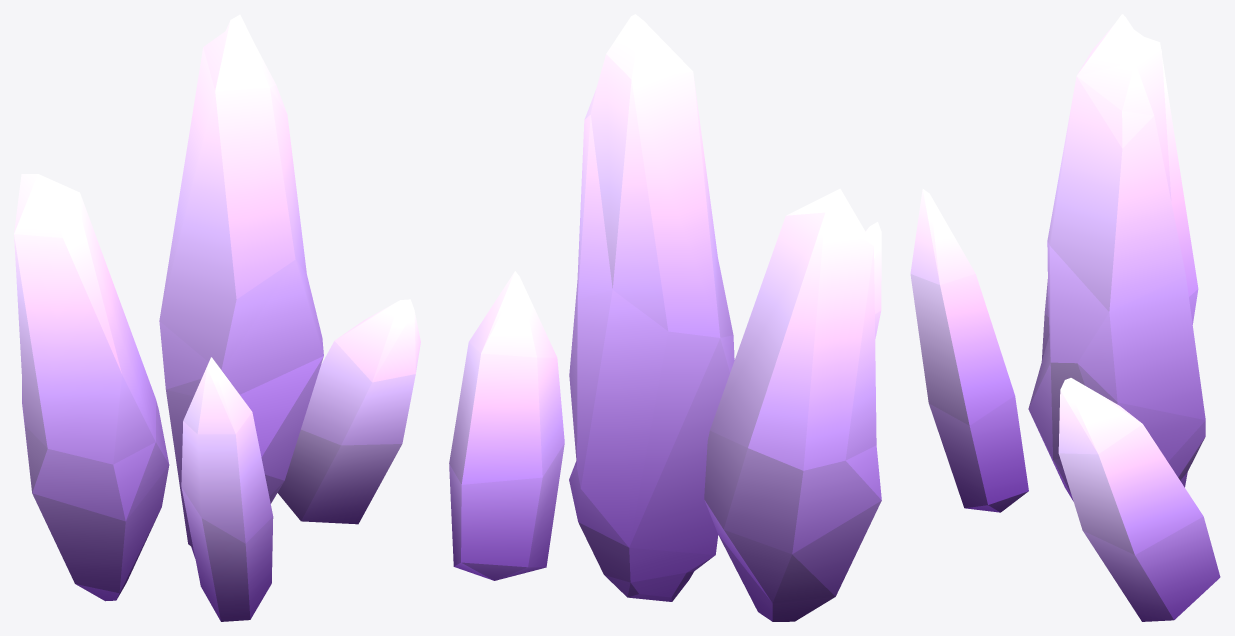
The model's file is pit_crystals.gltf.
The picture shows the model from 3 angles, left to right: view 1: azimuth 30°, elevation 25°; view 2: azimuth 150°, elevation 25°; view 3: azimuth 270°, elevation 25°; orthographic projection. The views are drawn at different scales.
Visible parts, largest first — view 1: pit_crystals; view 2: pit_crystals; view 3: pit_crystals.
Boxes of the visible parts, left/top/right/bottom form: pit_crystals: left=14, top=14, right=420, bottom=621; pit_crystals: left=449, top=14, right=881, bottom=621; pit_crystals: left=910, top=14, right=1220, bottom=621.
Size of the model in its own units: 5.65 by 7.49 by 3.86.
Materials: 1 (1 with a texture image).
